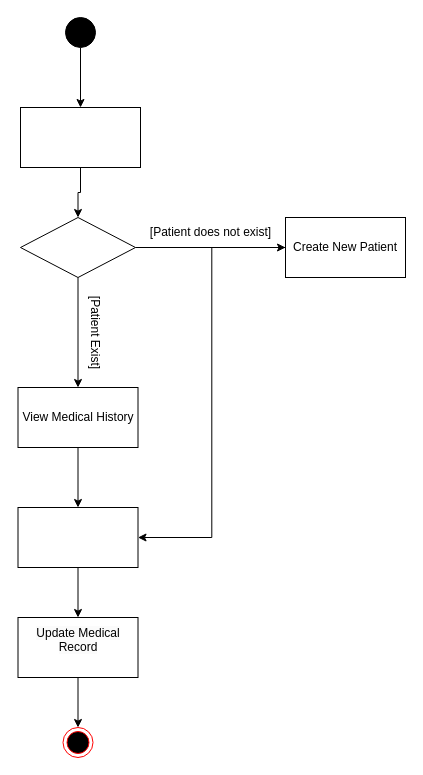
This 423x775 diagram has some shape labels left out. The centre of each missing label's shape, as x and y in pixels:
Add New Record: the point at 77,537
Search Patient: the point at 80,137
